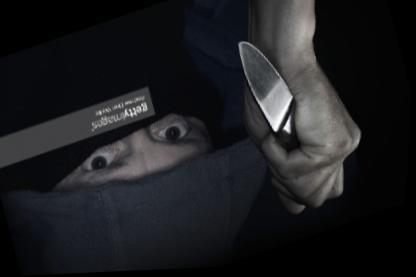knife: (222, 14, 358, 228)
